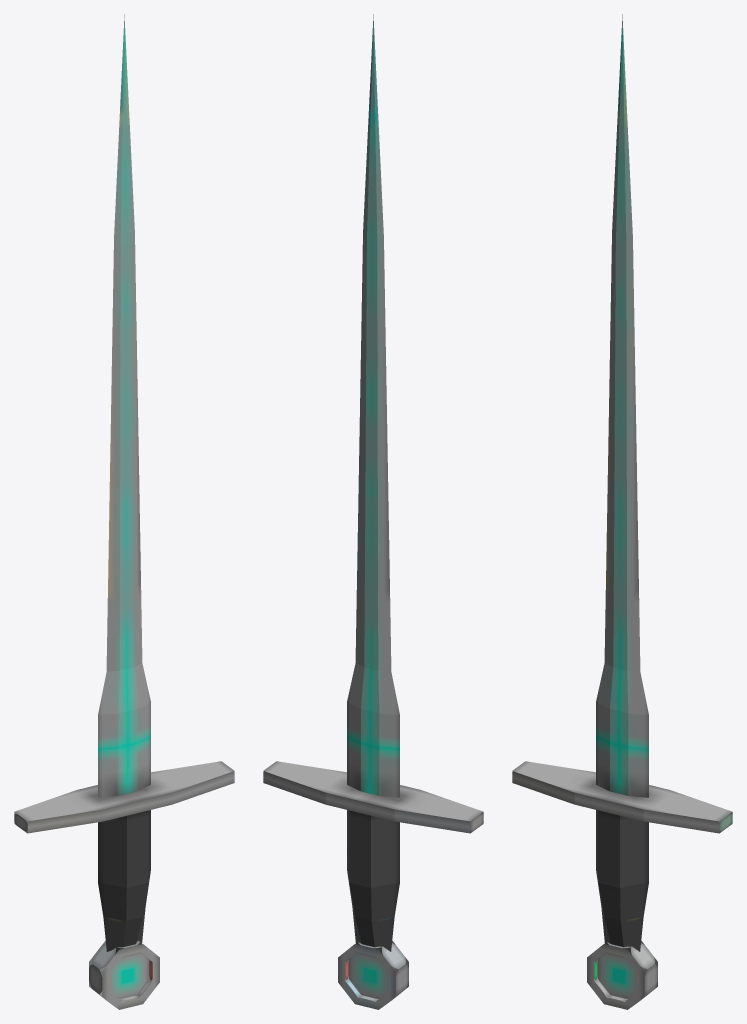
File: bluecrystalrapier.fbx
3 views of the same model, side by side, from view 1: azimuth 30°, elevation 25°; view 2: azimuth 150°, elevation 25°; view 3: azimuth 330°, elevation 25° (orthographic).
Visible parts, largest first — view 1: blade, cuboid, hilt, pommel; view 2: blade, cuboid, hilt, pommel; view 3: blade, cuboid, hilt, pommel.
Part boxes in pixels (left/top/right/bottom): blade: left=98, top=14, right=150, bottom=797; cuboid: left=14, top=761, right=234, bottom=833; hilt: left=98, top=810, right=150, bottom=954; pommel: left=89, top=941, right=159, bottom=1009; blade: left=347, top=14, right=399, bottom=797; cuboid: left=263, top=761, right=483, bottom=833; hilt: left=347, top=810, right=399, bottom=954; pommel: left=338, top=941, right=408, bottom=1009; blade: left=596, top=14, right=648, bottom=797; cuboid: left=512, top=761, right=732, bottom=833; hilt: left=596, top=810, right=648, bottom=954; pommel: left=587, top=941, right=657, bottom=1009.
Bounding box in the file's own units: 56.25 × 256 × 12.5.
Materials: 1 (1 with a texture image).
